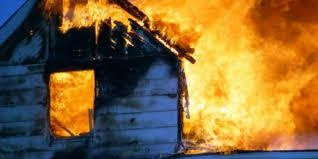fire: (132, 0, 317, 151), (45, 66, 94, 136)
